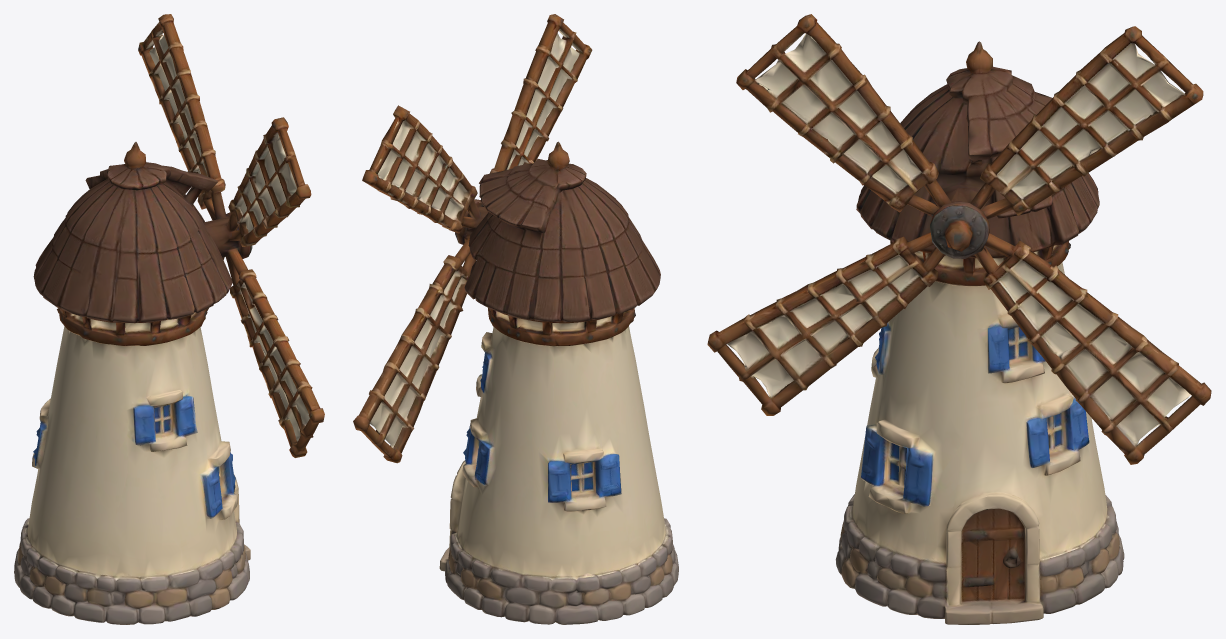
The model's file is windmill.glb.
3 views of the same model, side by side, from view 1: azimuth 30°, elevation 25°; view 2: azimuth 150°, elevation 25°; view 3: azimuth 270°, elevation 25° (orthographic). The views are drawn at different scales.
Parts seen in each view (by area): view 1: tripo_node_aefbd194-d1e8-402b-bcb8-9a07727ddda4; view 2: tripo_node_aefbd194-d1e8-402b-bcb8-9a07727ddda4; view 3: tripo_node_aefbd194-d1e8-402b-bcb8-9a07727ddda4.
Boxes of the visible parts, x1,y1,x2,y2 form: tripo_node_aefbd194-d1e8-402b-bcb8-9a07727ddda4: [14, 14, 324, 624]; tripo_node_aefbd194-d1e8-402b-bcb8-9a07727ddda4: [353, 14, 678, 624]; tripo_node_aefbd194-d1e8-402b-bcb8-9a07727ddda4: [707, 14, 1211, 624].
Size of the model in its own units: 0.4635 by 1 by 0.7682.
Materials: 1 (1 with a texture image).
